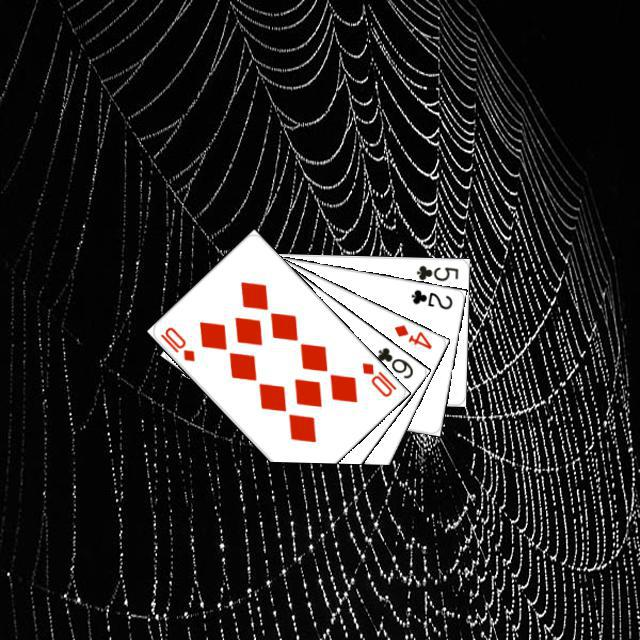10d: (357, 357, 398, 399), (155, 322, 197, 363)
2c: (406, 284, 454, 311)
4d: (389, 320, 433, 351)
5c: (412, 261, 460, 282)
6c: (372, 342, 415, 381)
